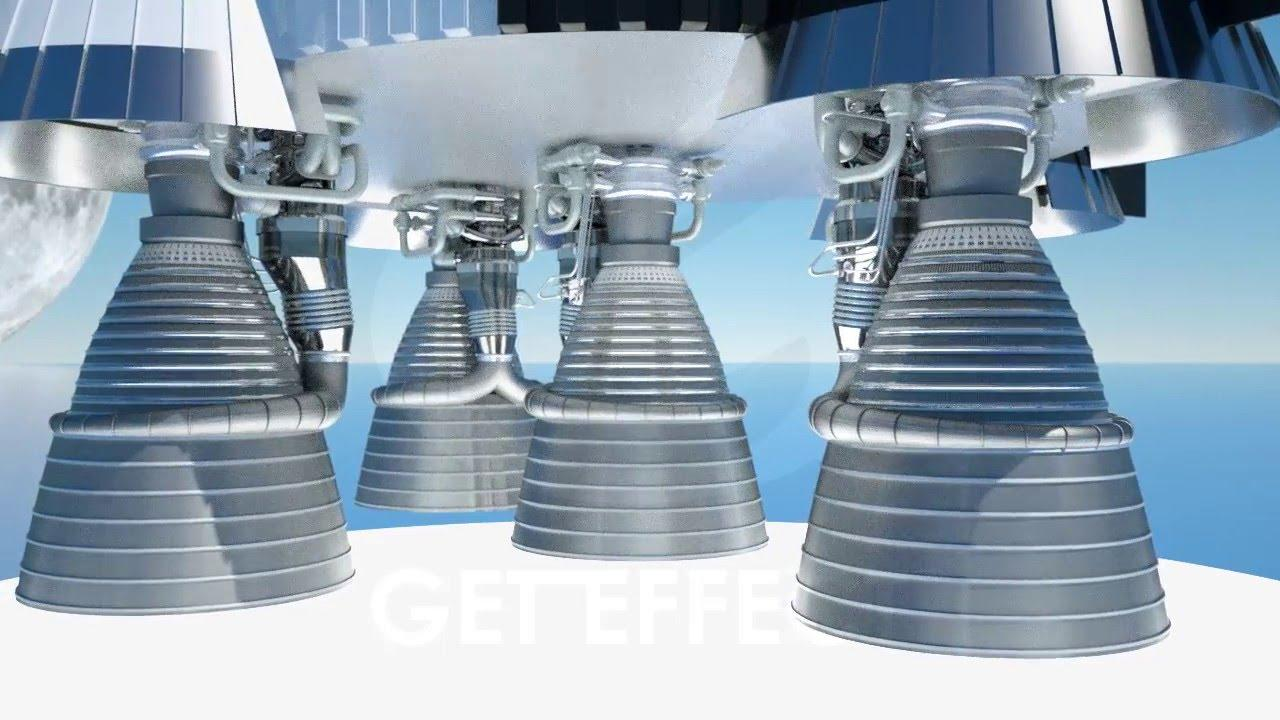thruster: (786, 226, 1178, 662), (8, 236, 360, 624), (506, 257, 775, 562), (351, 271, 544, 516)
